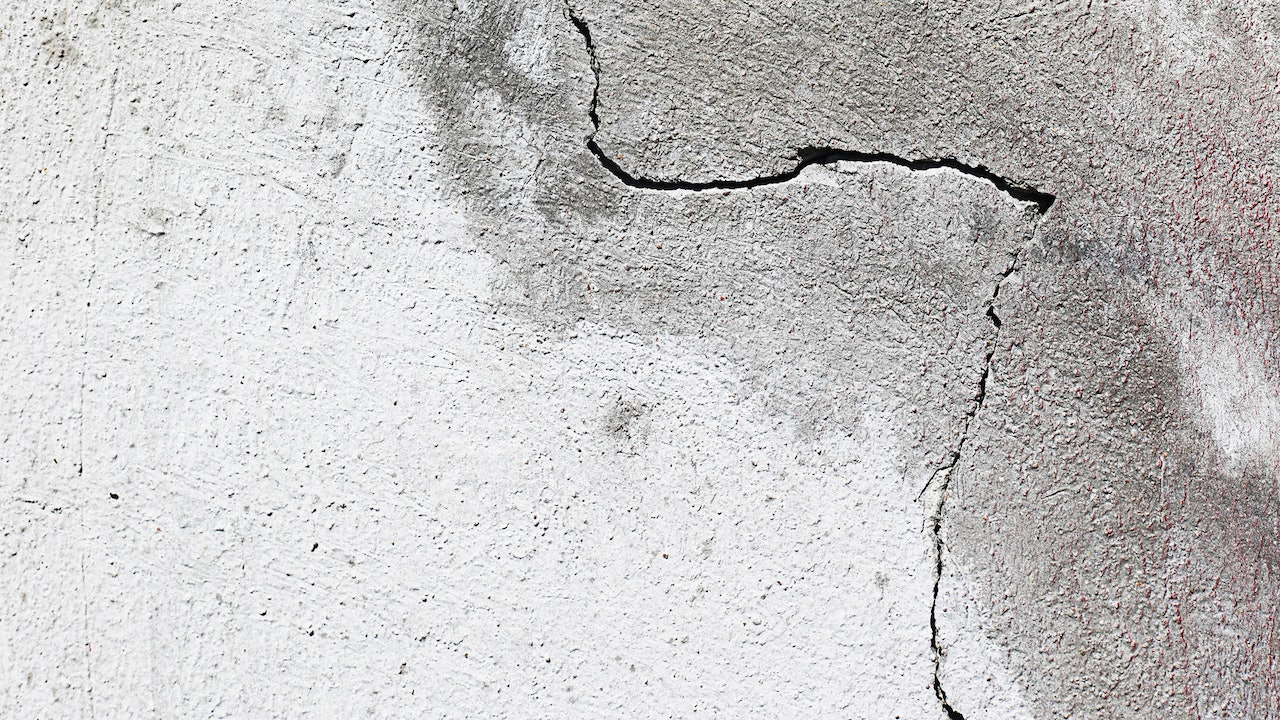crack: (561, 7, 1075, 720)
